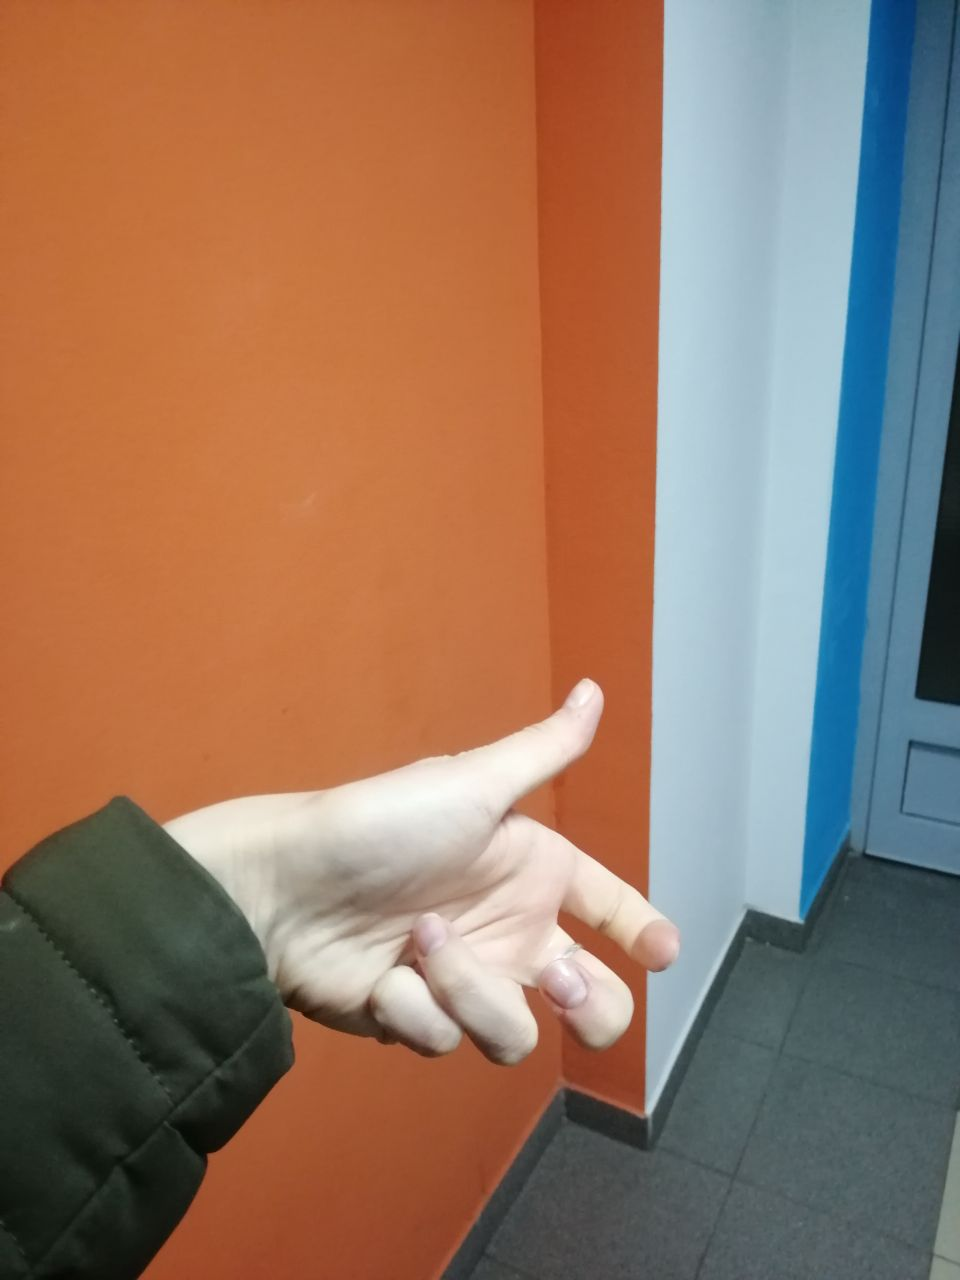hand: (318, 702, 655, 1033)
